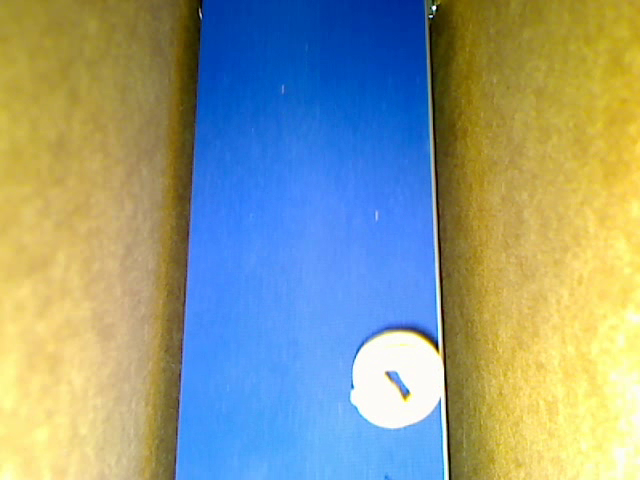tortellini: (348, 328, 444, 428)
